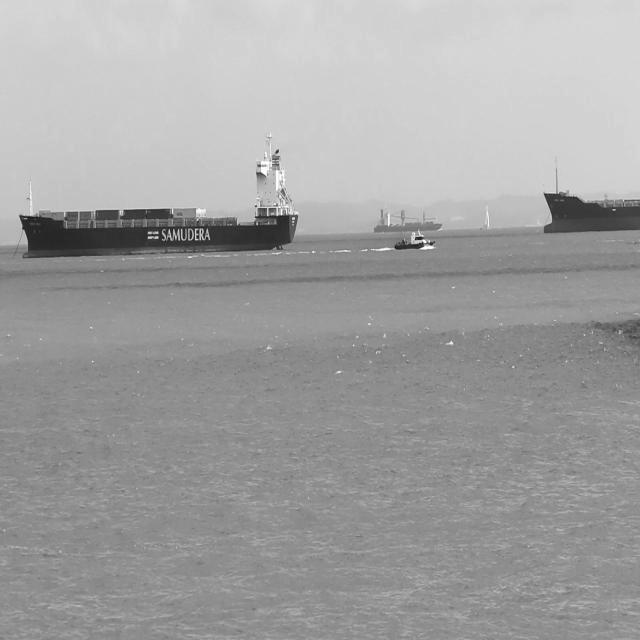ship: (19, 131, 299, 259), (544, 153, 639, 234), (372, 207, 442, 234), (392, 229, 436, 252), (482, 204, 490, 232)
